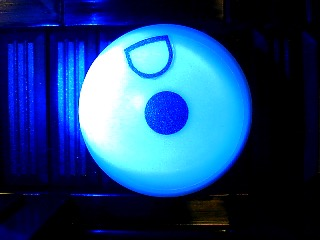BOHOMIPO1: (78, 23, 253, 197)
